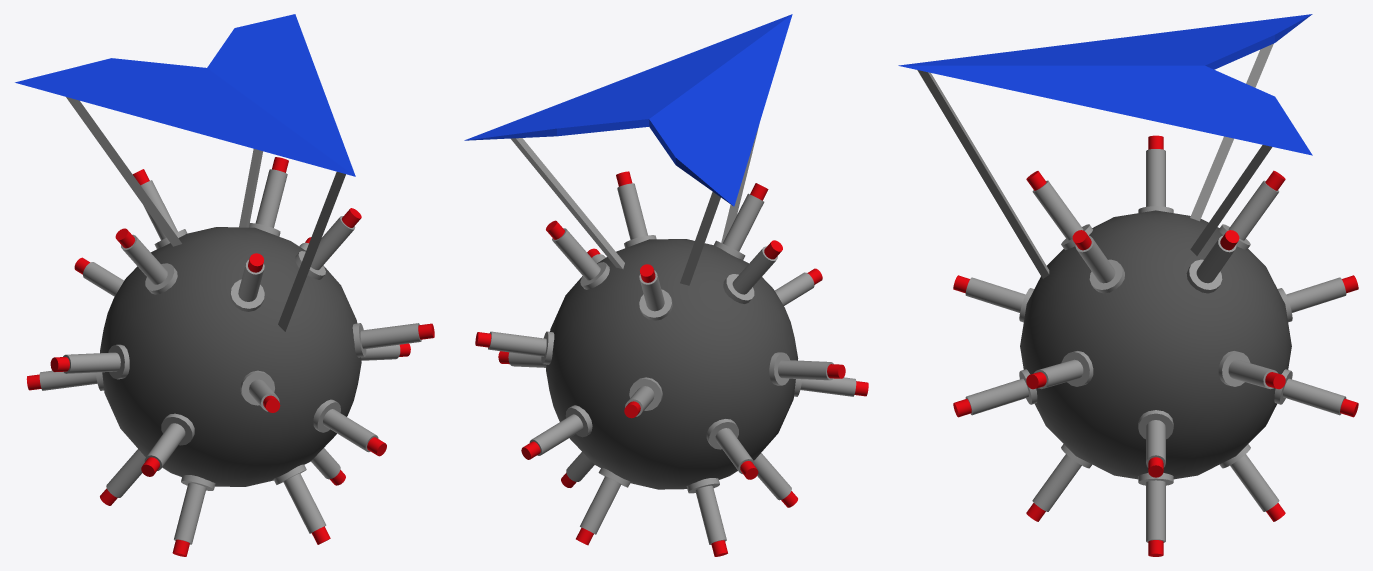
File: Bomb.fbx
The picture shows the model from 3 angles, left to right: view 1: azimuth 30°, elevation 25°; view 2: azimuth 150°, elevation 25°; view 3: azimuth 270°, elevation 25°; orthographic projection. The views are drawn at different scales.
Parts seen in each view (by area): view 1: Icosphere, Plane, Cylinder.001, Cylinder; view 2: Icosphere, Plane, Cylinder.001, Cylinder; view 3: Icosphere, Plane, Cylinder.001, Cylinder.
Part boxes in pixels (<box>): Icosphere: <box>26,157,434,556</box>; Plane: <box>15,14,355,176</box>; Cylinder.001: <box>66,97,262,246</box>; Cylinder: <box>278,172,345,331</box>; Icosphere: <box>475,171,868,556</box>; Plane: <box>464,14,792,206</box>; Cylinder.001: <box>511,138,720,285</box>; Cylinder: <box>721,126,758,243</box>; Icosphere: <box>953,135,1358,556</box>; Plane: <box>898,14,1312,155</box>; Cylinder.001: <box>1190,43,1273,255</box>; Cylinder: <box>917,70,1049,278</box>.
Bounding box in the file's own units: 12.45 × 13.57 × 14.25.
